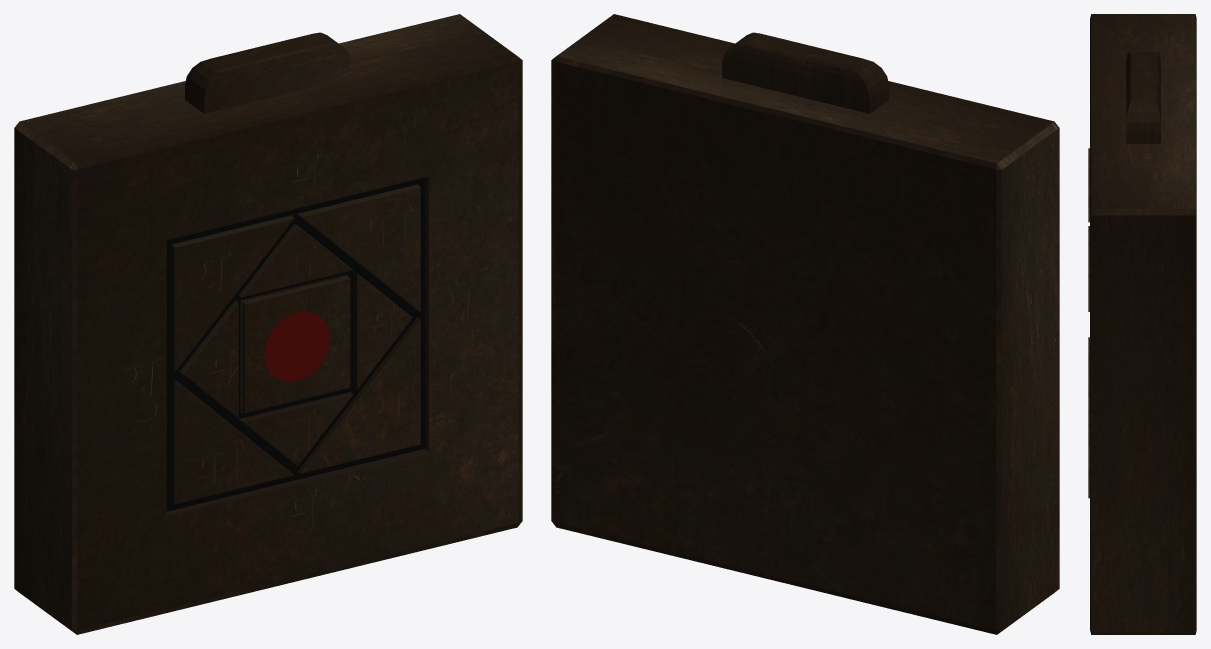
The model's file is TABIZ.glb.
3 renders of one model, left to right at view 1: azimuth 30°, elevation 25°; view 2: azimuth 150°, elevation 25°; view 3: azimuth 270°, elevation 25°, orthographic. The views are drawn at different scales.
Visible parts, largest first — view 1: Cube.001; view 2: Cube.001; view 3: Cube.001.
Boxes of the visible parts, x1,y1,x2,y2 form: Cube.001: (14, 14, 522, 634); Cube.001: (551, 14, 1059, 634); Cube.001: (1088, 14, 1196, 634).
Bounding box in the file's own units: 2 × 2.16 × 0.4609.
4 materials, 1 textured.
